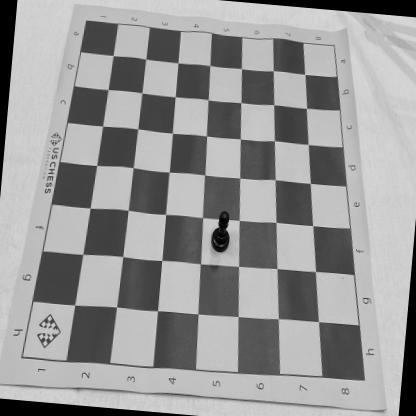black-pawn: (209, 208, 233, 254)
